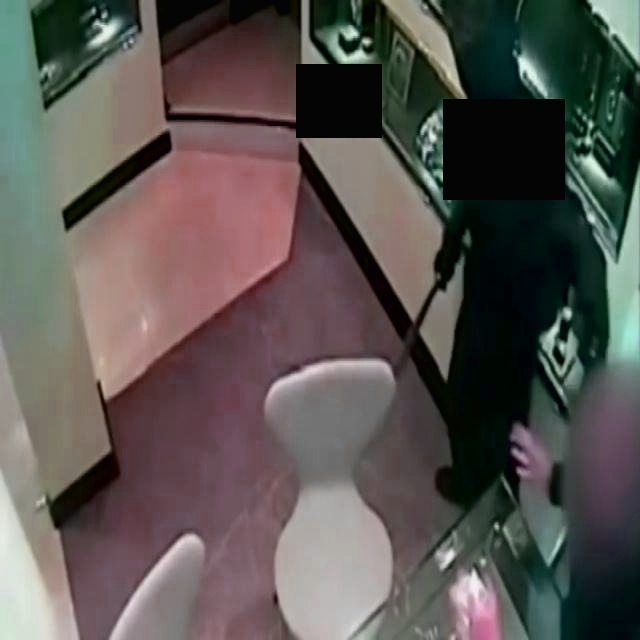gun: (390, 268, 455, 371)
